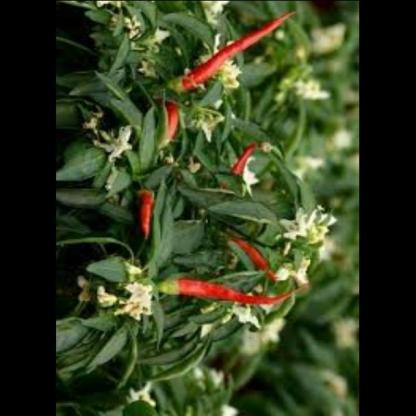hot pepper: (176, 8, 297, 95), (178, 274, 301, 310), (224, 226, 282, 272), (223, 138, 264, 189), (132, 188, 162, 240), (162, 92, 190, 146)
